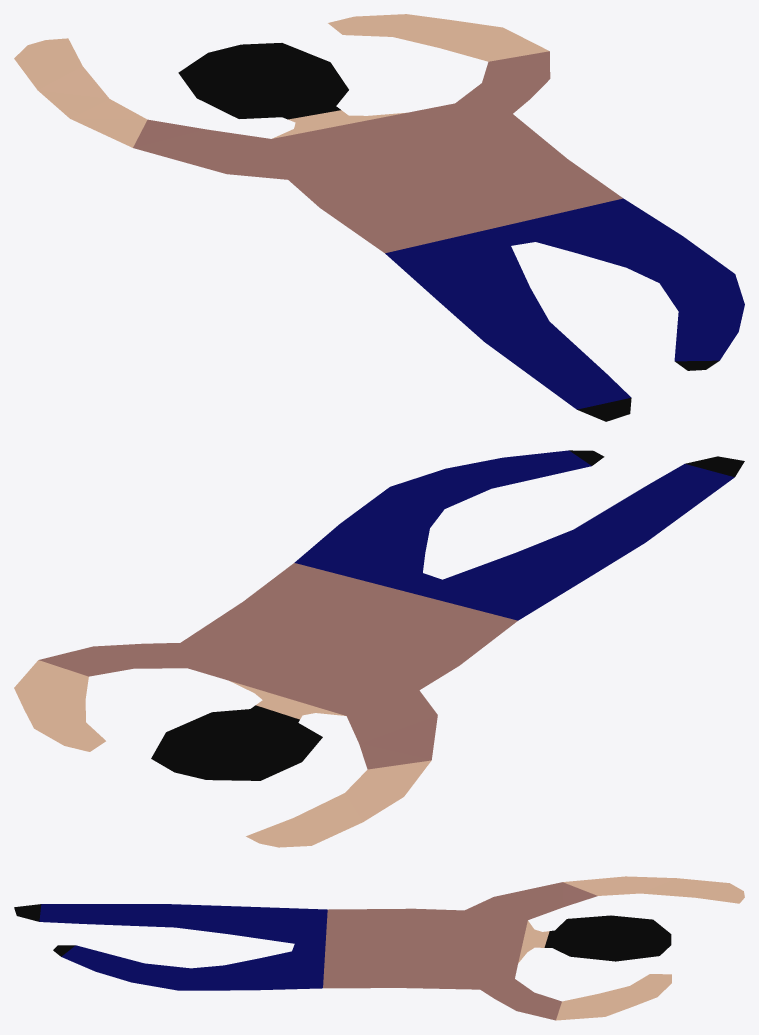
The model's file is trup(1).dae.
3 renders of one model, top to bottom at view 1: azimuth 30°, elevation 25°; view 2: azimuth 150°, elevation 25°; view 3: azimuth 270°, elevation 25°, orthographic. The views are drawn at different scales.
Parts seen in each view (by area): view 1: Plane; view 2: Plane; view 3: Plane.
Boxes of the visible parts, x1,y1,x2,y2 form: Plane: (14, 14, 744, 421); Plane: (14, 450, 744, 847); Plane: (14, 876, 744, 1020).
Size of the model in its own units: 1.15 by 2.46 by 0.00112.
